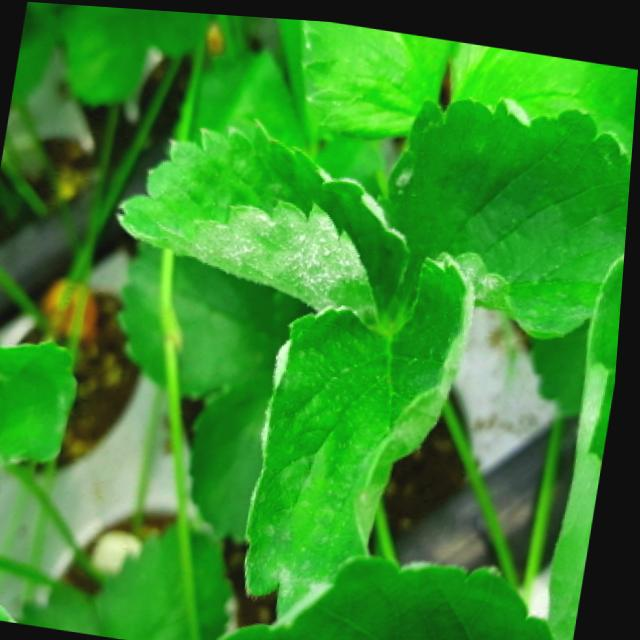Powdery Mildew Leaf: (250, 248, 479, 615), (384, 88, 633, 338), (117, 112, 414, 318), (0, 338, 82, 469)
